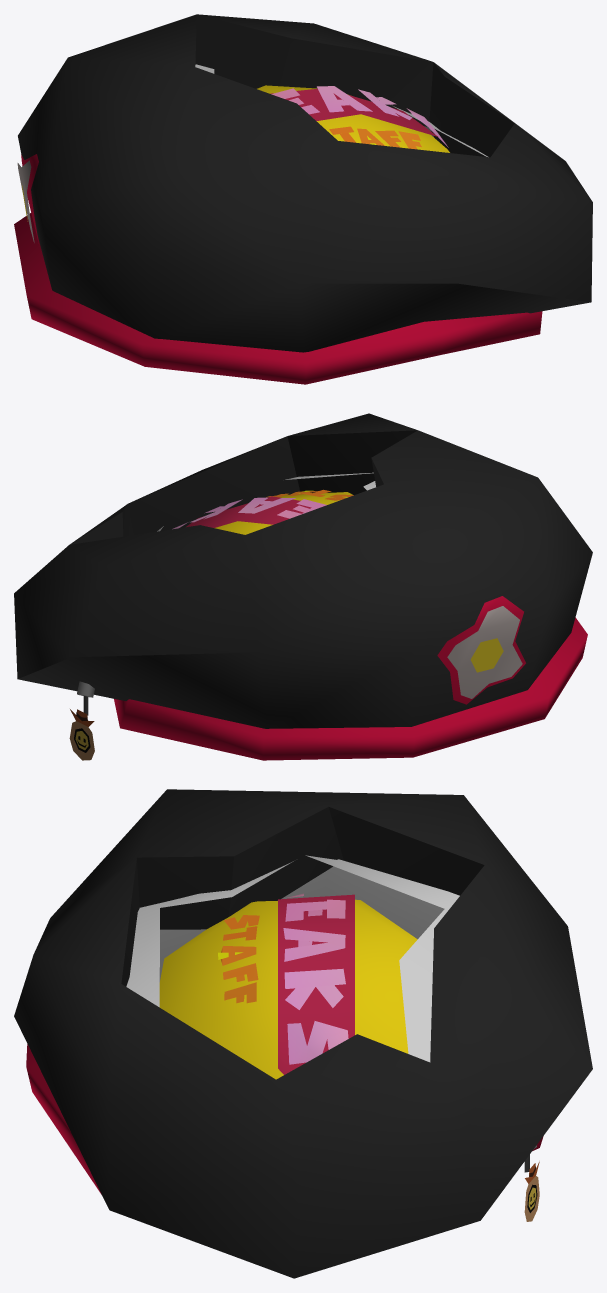
File: hat_staffBeret.glb
3 views of the same model, one above another, from view 1: azimuth 30°, elevation 25°; view 2: azimuth 150°, elevation 25°; view 3: azimuth 270°, elevation 25° (orthographic). The views are drawn at different scales.
Parts seen in each view (by area): view 1: hat_staffBeret; view 2: hat_staffBeret; view 3: hat_staffBeret.
Part boxes in pixels (x1,y1,x2,y2): hat_staffBeret: (14,14,592,384); hat_staffBeret: (14,413,592,760); hat_staffBeret: (14,789,592,1278).
Bounding box in the file's own units: 0.3932 × 0.1967 × 0.3472.
